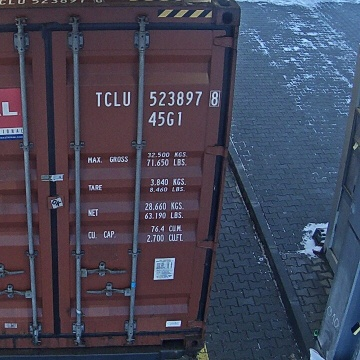serial_id: (96, 91, 218, 107)
